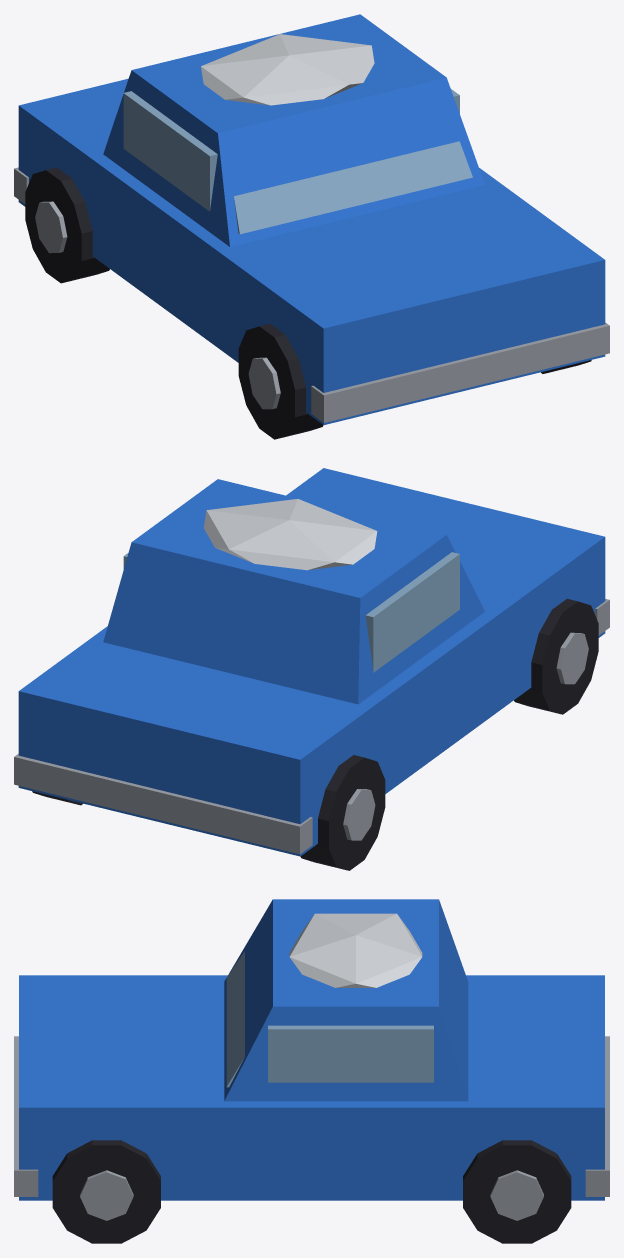
File: Car_Blue_Body.glb
3 views of the same model, one above another, from view 1: azimuth 30°, elevation 25°; view 2: azimuth 150°, elevation 25°; view 3: azimuth 270°, elevation 25° (orthographic). The views are drawn at different scales.
Visible parts, largest first — view 1: Car_Blue_Body; view 2: Car_Blue_Body; view 3: Car_Blue_Body.
Boxes of the visible parts, bbox=[...] form: Car_Blue_Body: bbox=[14, 14, 609, 439]; Car_Blue_Body: bbox=[14, 468, 609, 870]; Car_Blue_Body: bbox=[14, 899, 609, 1243].
Size of the model in its own units: 7.1 by 5.36 by 12.2.
